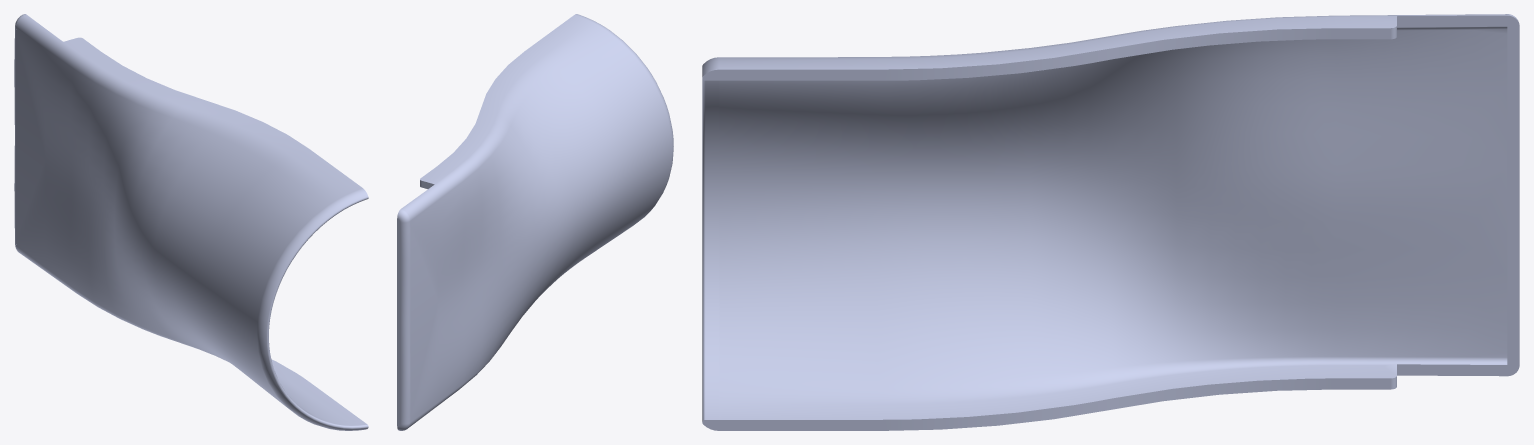
3 renders of one model, left to right at view 1: azimuth 30°, elevation 25°; view 2: azimuth 150°, elevation 25°; view 3: azimuth 270°, elevation 25°, orthographic. The views are drawn at different scales.
Parts seen in each view (by area): view 1: Body1; view 2: Body1; view 3: Body1.
Part boxes in pixels (<box>): Body1: <box>14,14,368,430</box>; Body1: <box>397,14,673,430</box>; Body1: <box>702,14,1519,430</box>.
Bounding box in the file's own units: 0.03 × 0.065 × 0.1332.
